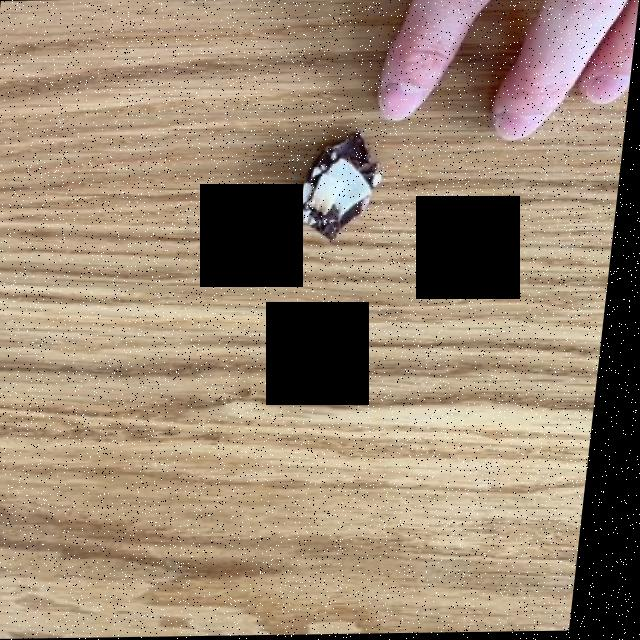coconut: (296, 160, 375, 224)
dark-chocolate: (298, 136, 377, 240)
